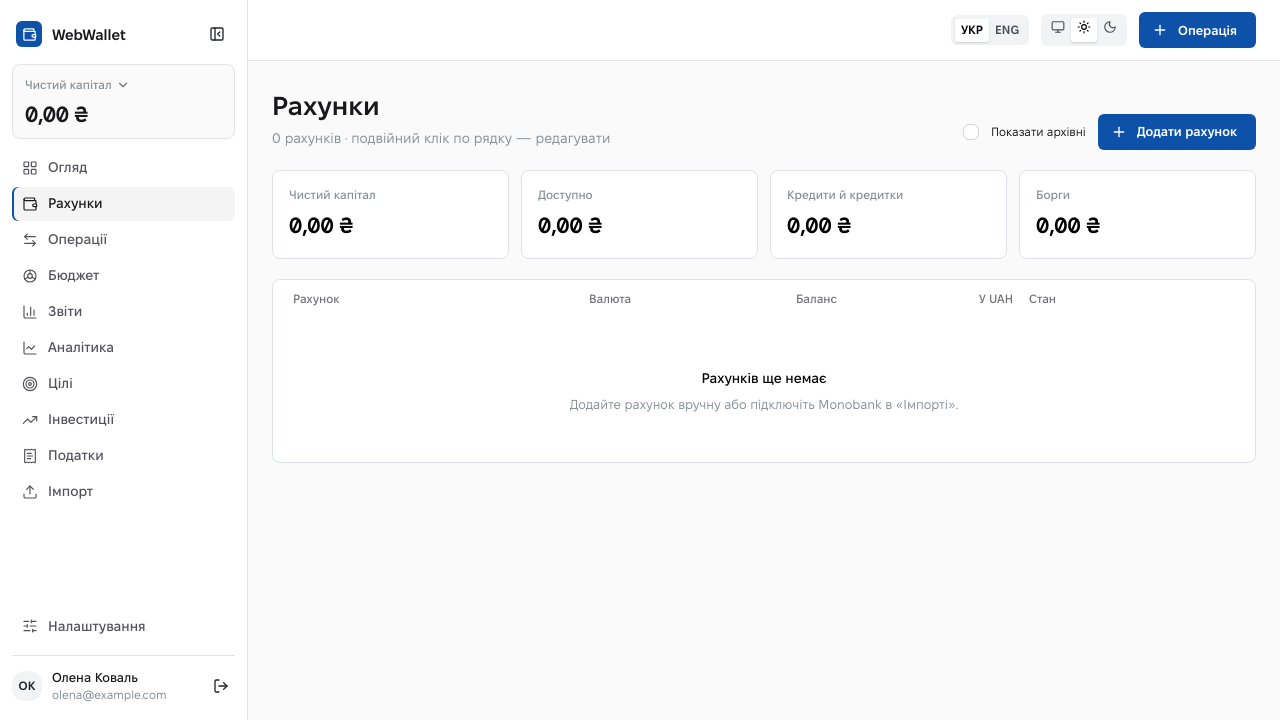
Scenario: creates an account
The image size is (1280, 720).
Expected: the text "Рахунків ще немає" is shown, [701,368,826,389]
Click the button "Додати рахунок". click: (1177, 132)
box: [1098,114,1256,150]
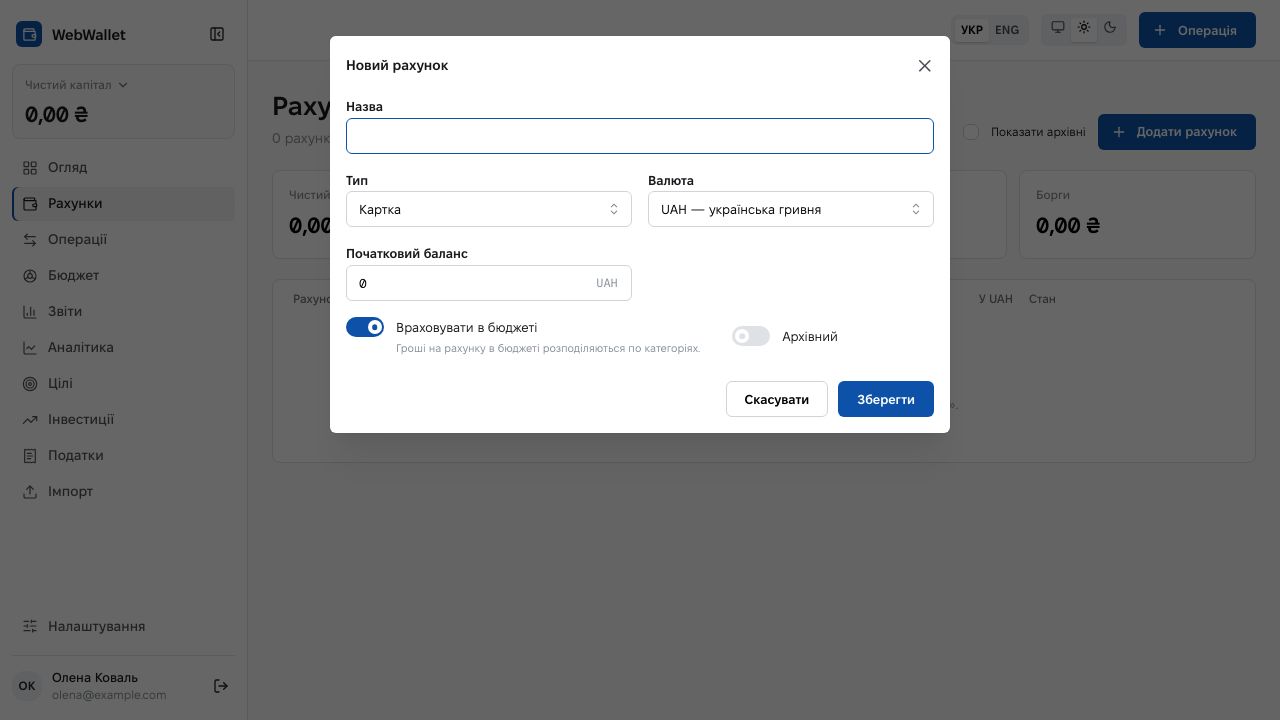
Type "Гаманець" into the field labelled "Назва". click: (640, 136)
box: [346,118,934,154]
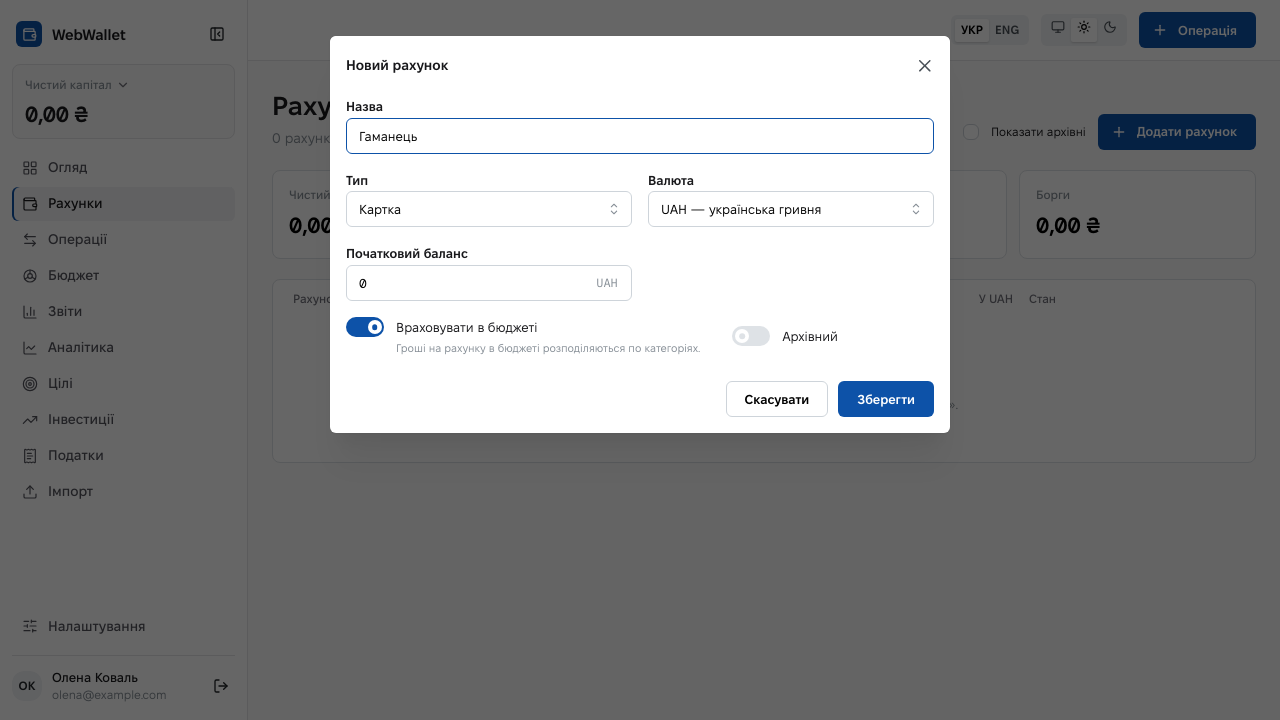
Click the button "Зберегти". click: (886, 399)
box: [838,381,934,417]
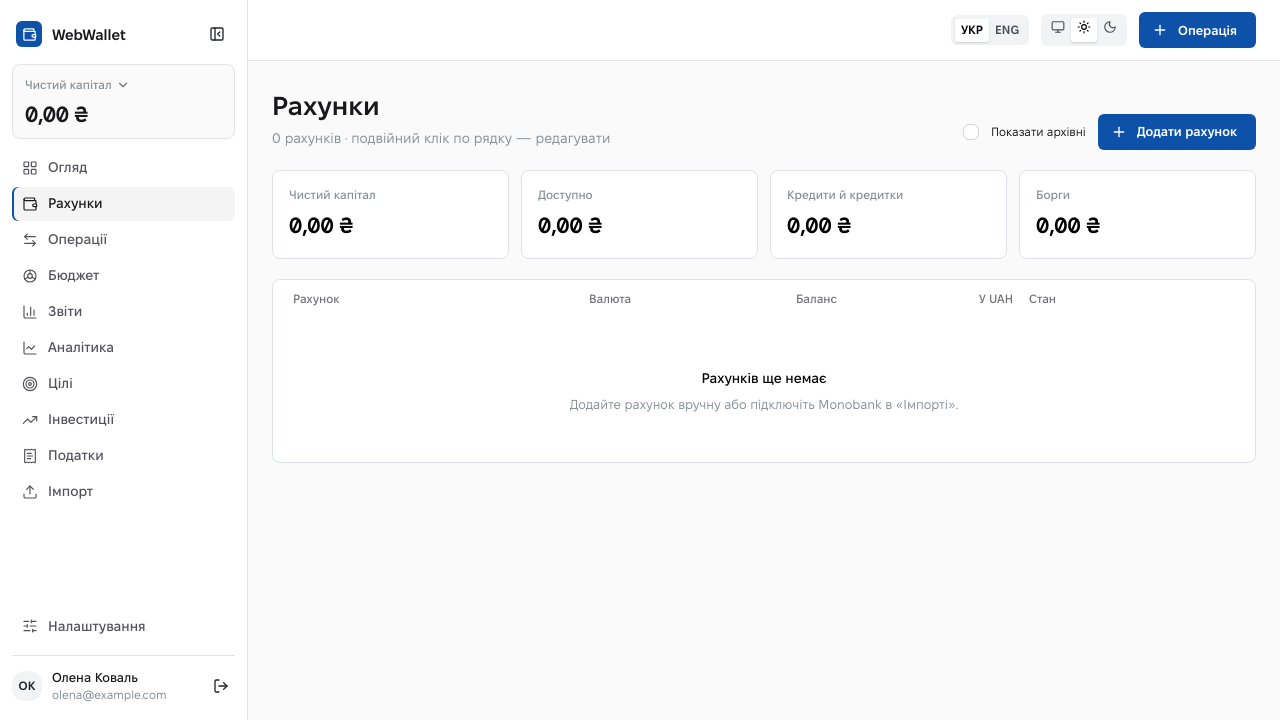
Expected: the dialog is gone
